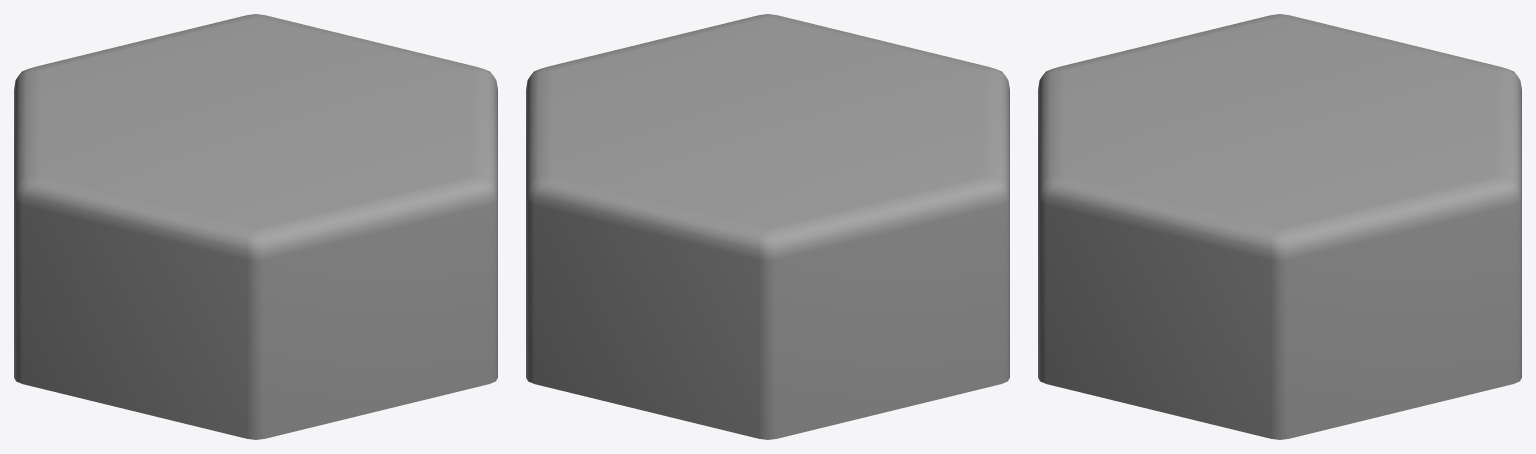
The model's file is Tile_Concrete.fbx.
The picture shows the model from 3 angles, left to right: view 1: azimuth 30°, elevation 25°; view 2: azimuth 150°, elevation 25°; view 3: azimuth 270°, elevation 25°; orthographic projection.
Parts seen in each view (by area): view 1: Tile_Concrete; view 2: Tile_Concrete; view 3: Tile_Concrete.
Boxes of the visible parts, x1,y1,x2,y2 form: Tile_Concrete: [14, 14, 497, 439]; Tile_Concrete: [526, 14, 1009, 439]; Tile_Concrete: [1038, 14, 1521, 439].
Bounding box in the file's own units: 9302 × 3698 × 8129.
